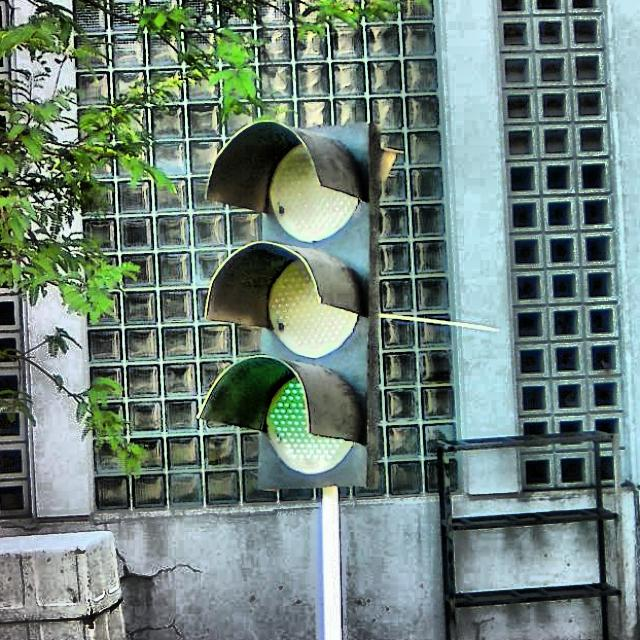green: (204, 123, 378, 490)
